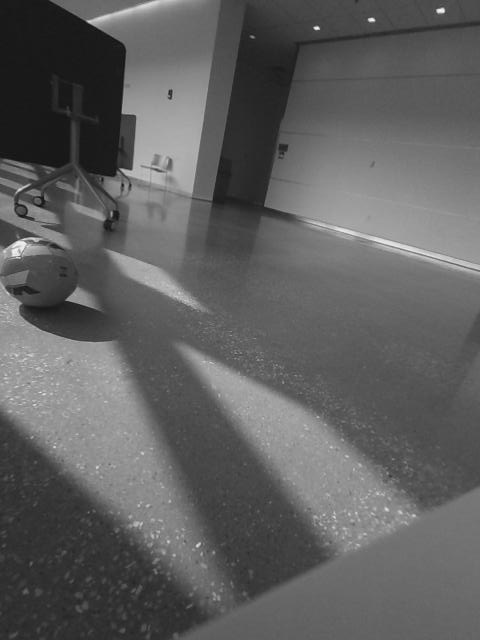ball: (1, 234, 82, 314)
